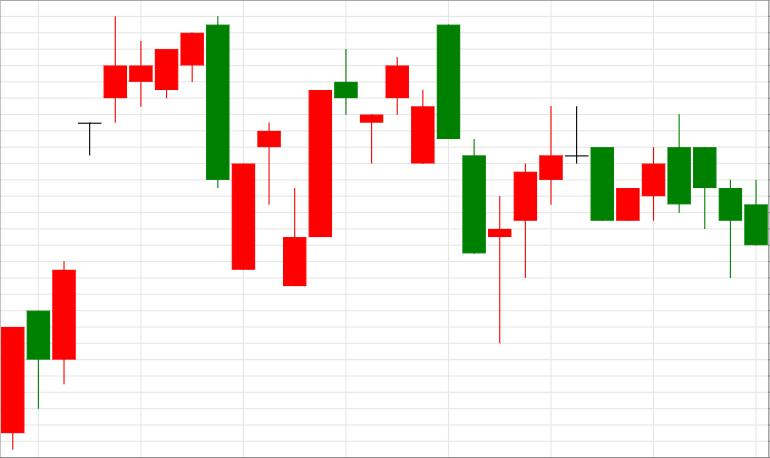hammer_rise: (78, 15, 229, 188)
